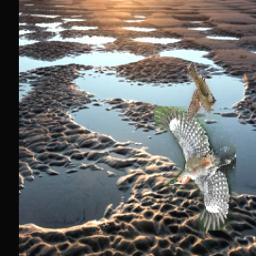Sparrow: (187, 62, 217, 124)
Woodpecker: (153, 106, 235, 231)
